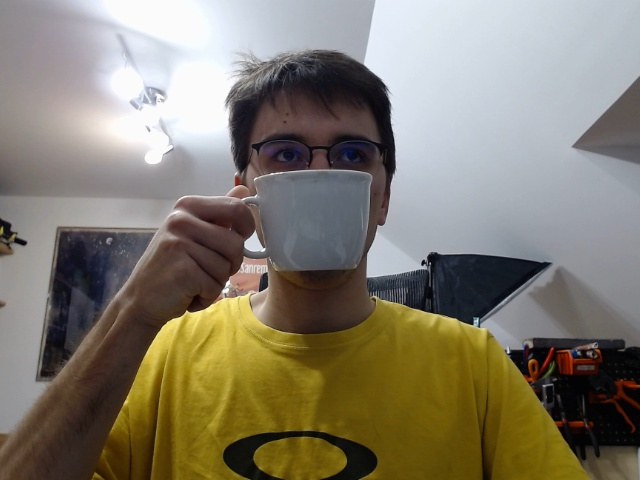NoMask: (215, 38, 398, 295)
